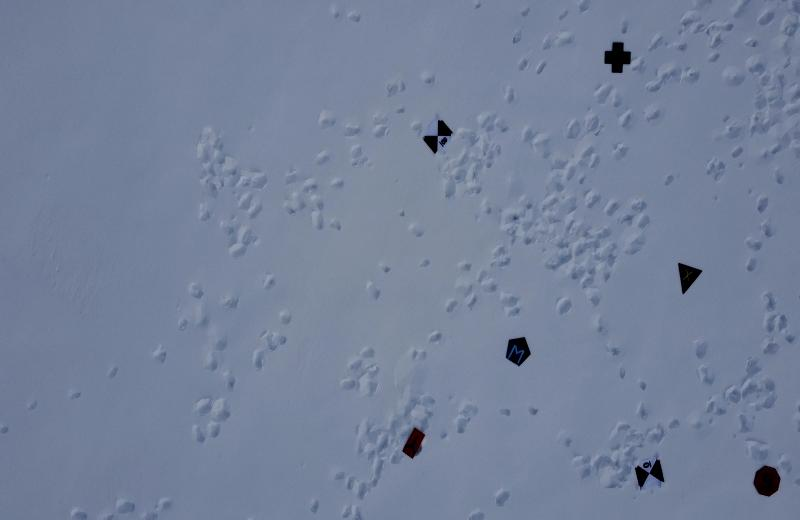Cross: (602, 38, 634, 74)
Octagon: (751, 462, 781, 497)
Pentagon: (504, 334, 537, 369)
Rectangle: (397, 423, 429, 461)
Triangle: (671, 258, 705, 300)
